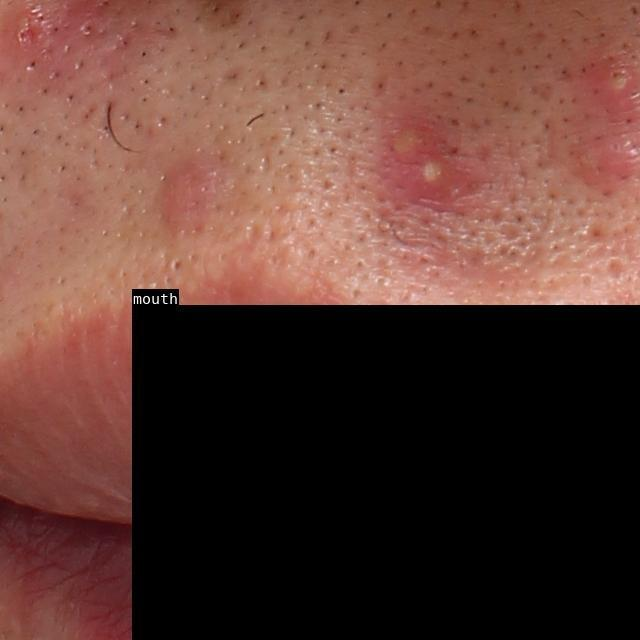papule: (160, 163, 208, 229)
pustule: (576, 132, 633, 188), (375, 114, 433, 167), (407, 156, 454, 199)
